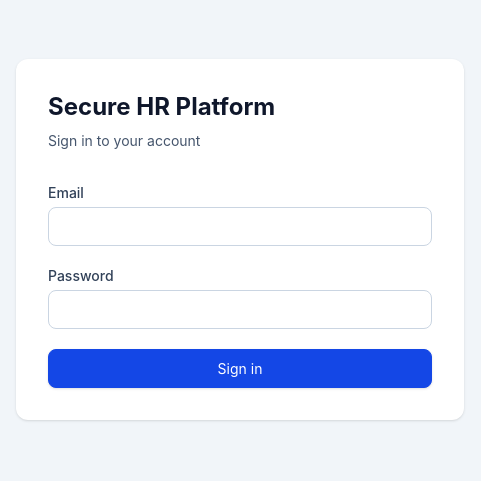
Scenario: LoginPage › displays an error when login fails
Type "admin@example.com" into the field labelled "Email" at point(240, 226), box [48,206,432,246]
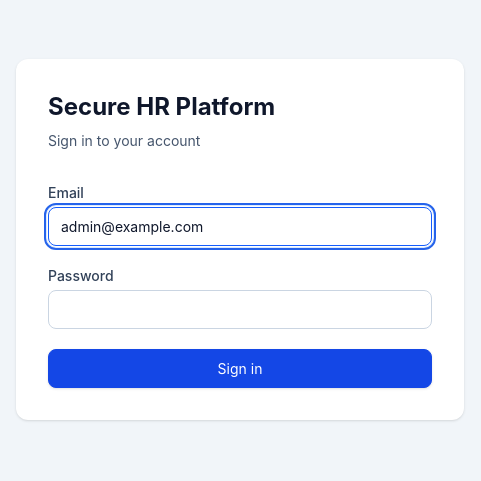
Type "WrongPassword123!" into the password field labelled "Password" at point(240, 309), box [48,290,432,328]
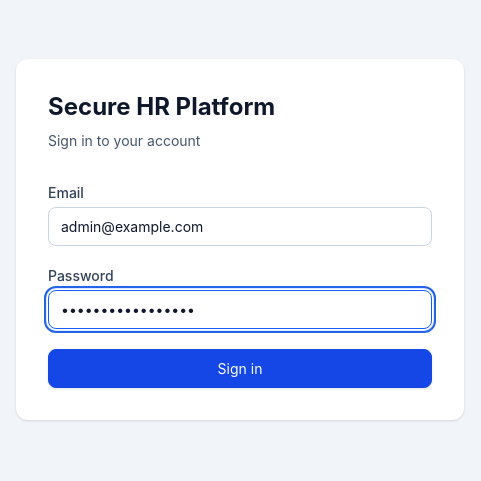
Click the button "Sign in" at point(240, 368), box [48,348,432,388]
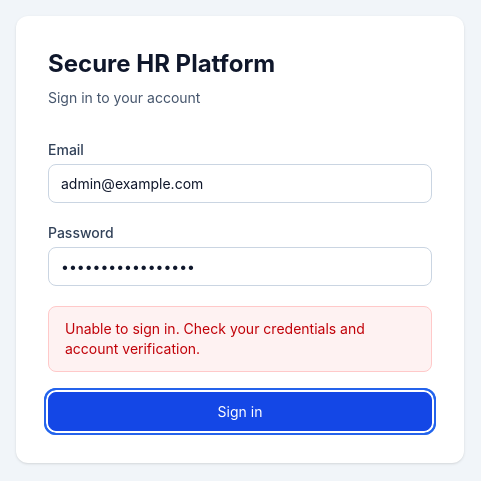
Expected: the text "Unable to sign in. Check your credentials and account verification." is shown, [48,306,432,372]
